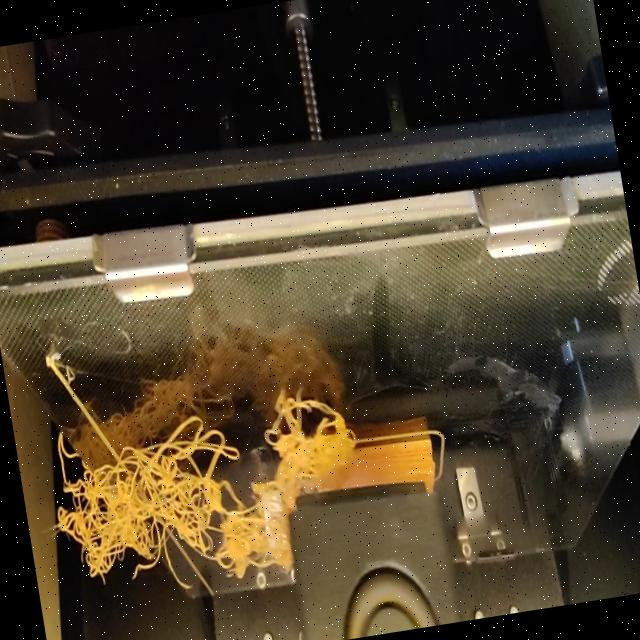spaghetti: (44, 406, 258, 610)
